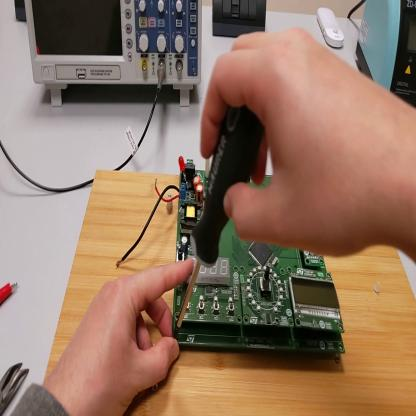hand: (201, 29, 388, 255), (62, 255, 195, 416)
low voltage board: (117, 158, 345, 353)
oscilloscope: (25, 2, 201, 106)
pliers: (1, 362, 31, 416)
screwdriver-: (175, 106, 269, 339)
socket: (15, 1, 27, 22)
welder station: (355, 5, 416, 104)
working area: (44, 170, 416, 416)
